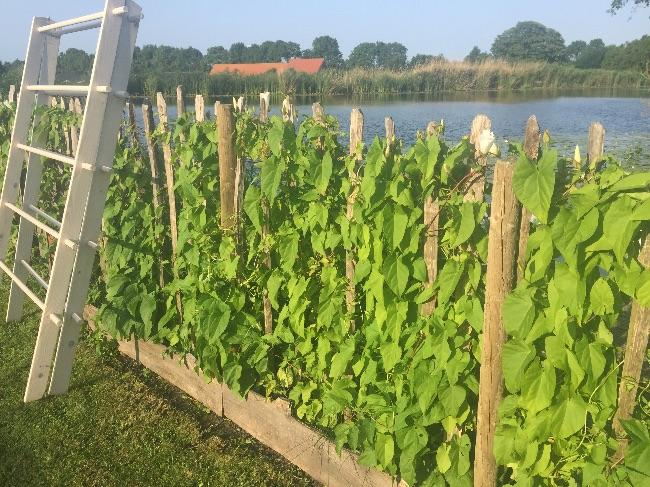haagwinde: (155, 94, 496, 476)
